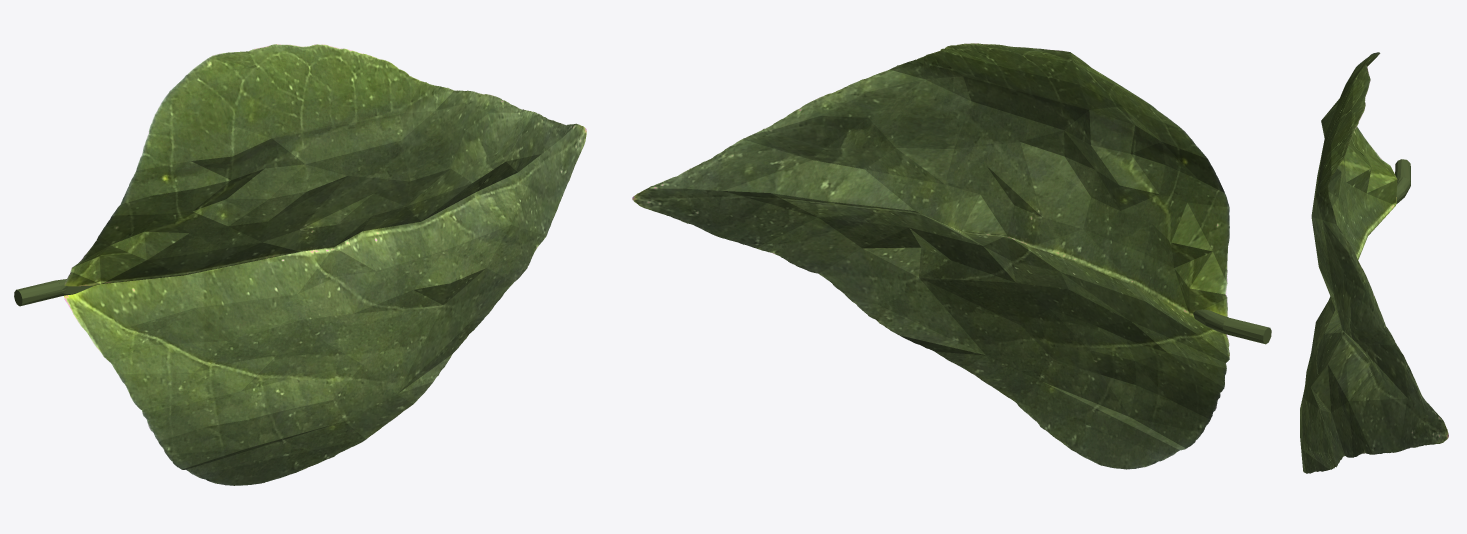
File: BeanLeaf_tip.obj
3 renders of one model, left to right at view 1: azimuth 30°, elevation 25°; view 2: azimuth 150°, elevation 25°; view 3: azimuth 270°, elevation 25°, orthographic. The views are drawn at different scales.
Parts seen in each view (by area): view 1: leaf, petiolule; view 2: leaf, petiolule; view 3: leaf, petiolule.
Boxes of the visible parts, <box> form: leaf: <box>64,44,586,485</box>; petiolule: <box>14,279,93,306</box>; leaf: <box>632,43,1229,469</box>; petiolule: <box>1193,309,1271,344</box>; leaf: <box>1300,52,1448,473</box>; petiolule: <box>1395,159,1410,203</box>.
Bounding box in the file's own units: 1.26 × 0.8578 × 0.2931.
Materials: 2 (1 with a texture image).
